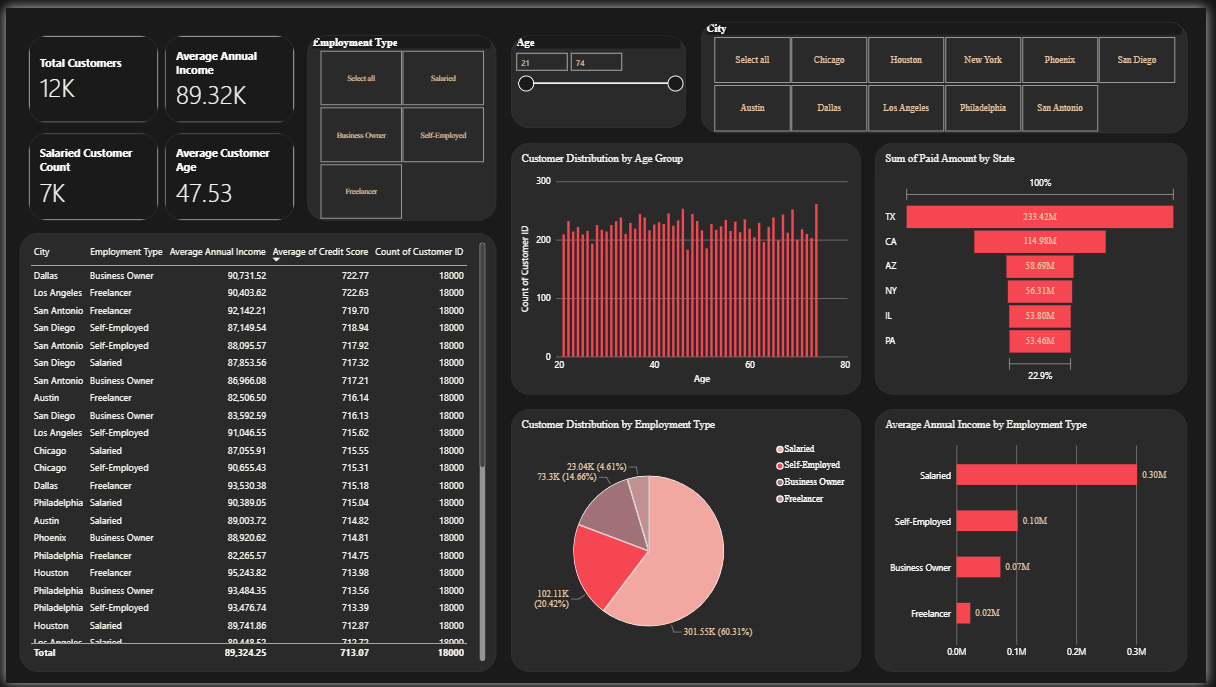

The dashboard page shown, as its layout file describes it:
{"tool":"powerbi","page":{"name":"Customer & Financial Profile","canvas":[1920,1080],"ordinal":2},"visuals":[{"type":"cardVisual","fields":{"Data":["customers.Total Customers"]},"box":[36,44,208,140],"z":0},{"type":"cardVisual","fields":{"Data":["customers.Average Customer Age"]},"box":[254,200,208,140],"z":1000},{"type":"cardVisual","fields":{"Data":["customers.Average Annual Income"]},"box":[254,44,208,140],"z":2000},{"type":"cardVisual","fields":{"Data":["customers.Salaried Customer Count"]},"box":[36,200,208,140],"z":3000},{"type":"columnChart","title":"Customer Distribution by Age Group","fields":{"Category":["customers.Age"],"Y":["CountNonNull(customers.Customer ID)"]},"box":[808,216,560,402],"z":4000},{"type":"barChart","title":"Average Annual Income by Employment Type","fields":{"Category":["customers.Employment Type"],"Y":["CountNonNull(payments.Customer ID)"]},"box":[1390,642,500,420],"z":5000},{"type":"pieChart","title":"Customer Distribution by Employment Type","fields":{"Category":["customers.Employment Type"],"Y":["CountNonNull(payments.Customer ID)"]},"box":[808,642,560,420],"z":6000},{"type":"tableEx","fields":{"Values":["customers.City","customers.Employment Type","customers.Average Annual Income","customers.Credit Score","loans.Customer ID"]},"box":[22,360,762,702],"z":7000},{"type":"slicer","fields":{"Values":["customers.Age"]},"box":[808,44,280,148],"z":8000},{"type":"slicer","fields":{"Values":["customers.City"]},"box":[1112,22,778,178],"z":10000},{"type":"slicer","fields":{"Values":["customers.Employment Type"]},"box":[482,44,302,296],"z":11000},{"type":"funnel","fields":{"Category":["customers.State"],"Y":["Sum(payments.Paid Amount)"]},"box":[1390,216,500,402],"z":12000}]}

Visuals, with their boxes in screenshot pixels (x1, y1, x2, y2), scaled from the page's 1920x1080 canvas onto the 1216x687 screenshot:
cardVisual - customers.Total Customers: <box>23,28,155,117</box>
cardVisual - customers.Average Customer Age: <box>161,127,293,216</box>
cardVisual - customers.Average Annual Income: <box>161,28,293,117</box>
cardVisual - customers.Salaried Customer Count: <box>23,127,155,216</box>
"Customer Distribution by Age Group" columnChart: <box>512,137,866,393</box>
"Average Annual Income by Employment Type" barChart: <box>880,408,1197,676</box>
"Customer Distribution by Employment Type" pieChart: <box>512,408,866,676</box>
tableEx - customers.City x customers.Employment Type: <box>14,229,497,676</box>
slicer - customers.Age: <box>512,28,689,122</box>
slicer - customers.City: <box>704,14,1197,127</box>
slicer - customers.Employment Type: <box>305,28,497,216</box>
funnel - customers.State x Sum(payments.Paid Amount): <box>880,137,1197,393</box>
